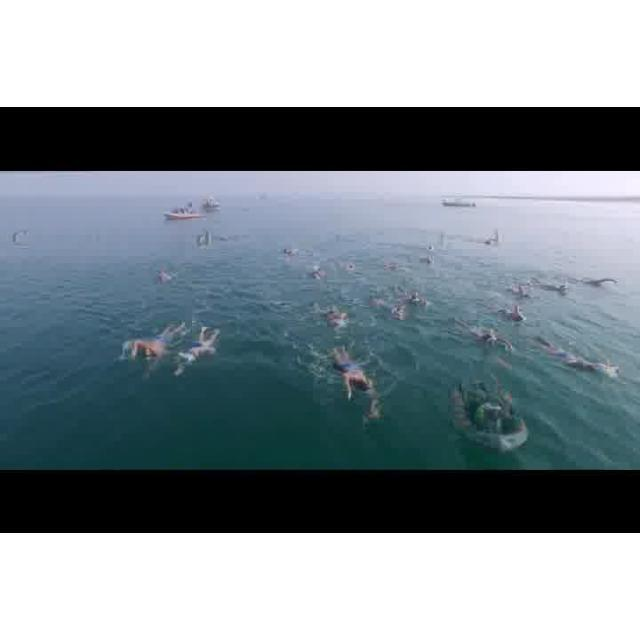human: (329, 348, 385, 418), (129, 317, 192, 373), (172, 331, 224, 380)
